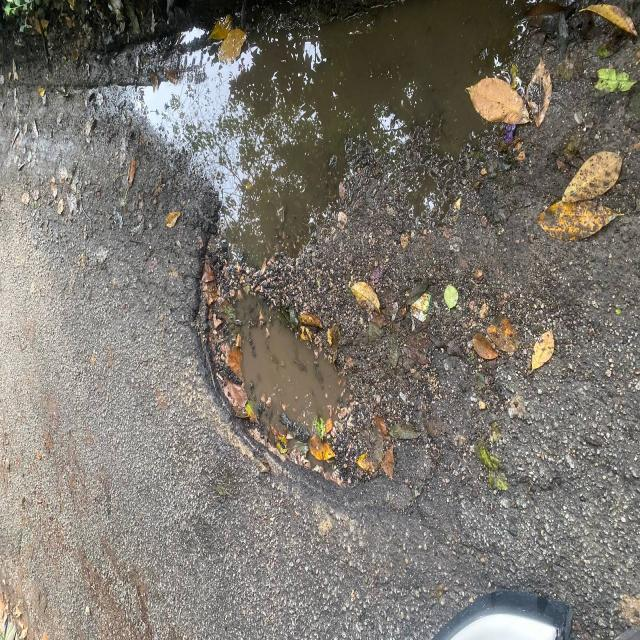pothole: (153, 177, 463, 586)
